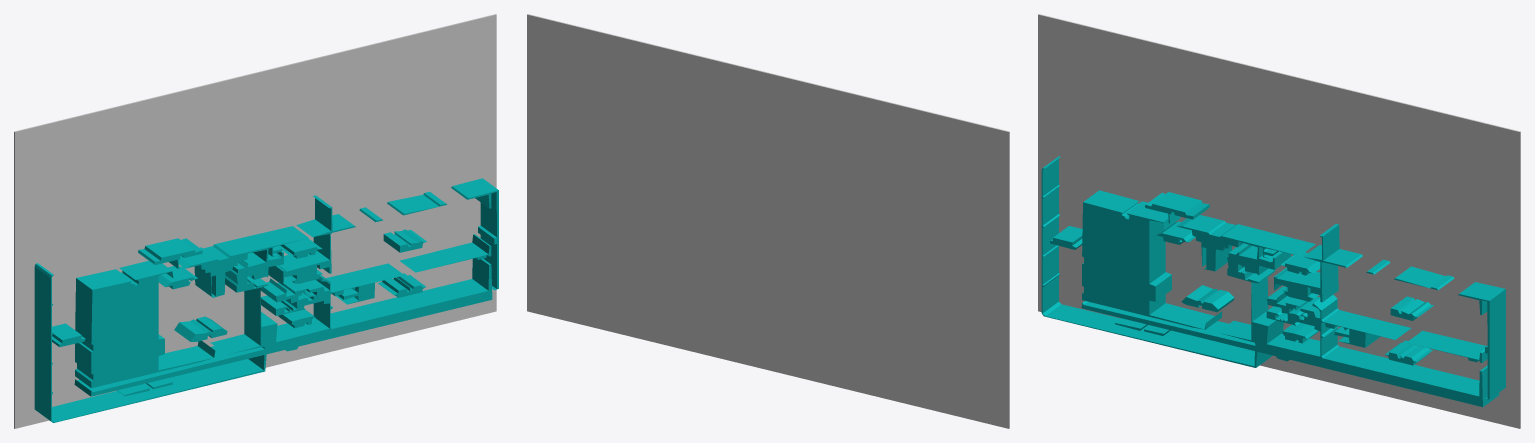
3 views of the same model, side by side, from view 1: azimuth 30°, elevation 25°; view 2: azimuth 150°, elevation 25°; view 3: azimuth 330°, elevation 25° (orthographic).
Parts seen in each view (by area): view 1: world; view 2: world; view 3: world.
Boxes of the visible parts, x1,y1,x2,y2 form: world: [14, 14, 498, 428]; world: [527, 14, 1009, 428]; world: [1038, 14, 1520, 428].
Bounding box in the file's own units: 51.15 × 30.1 × 3.15.
